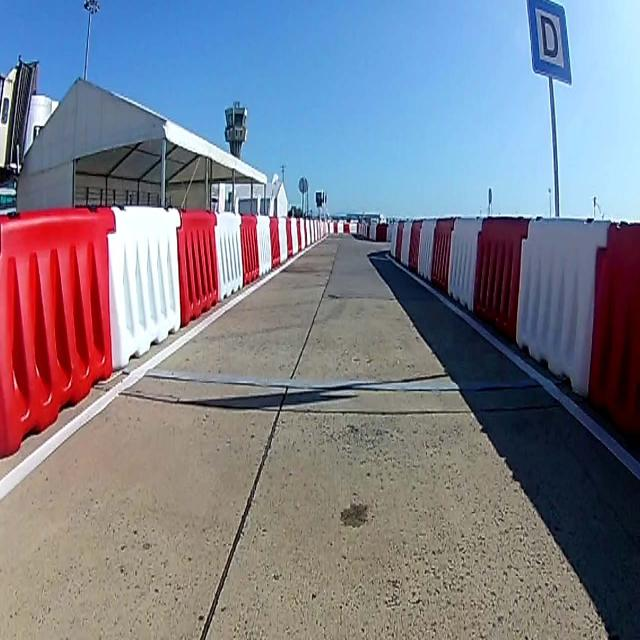durak: (530, 1, 571, 83)
